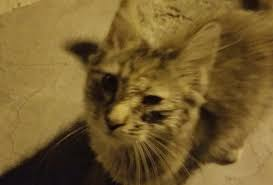cat: (62, 2, 272, 183)
